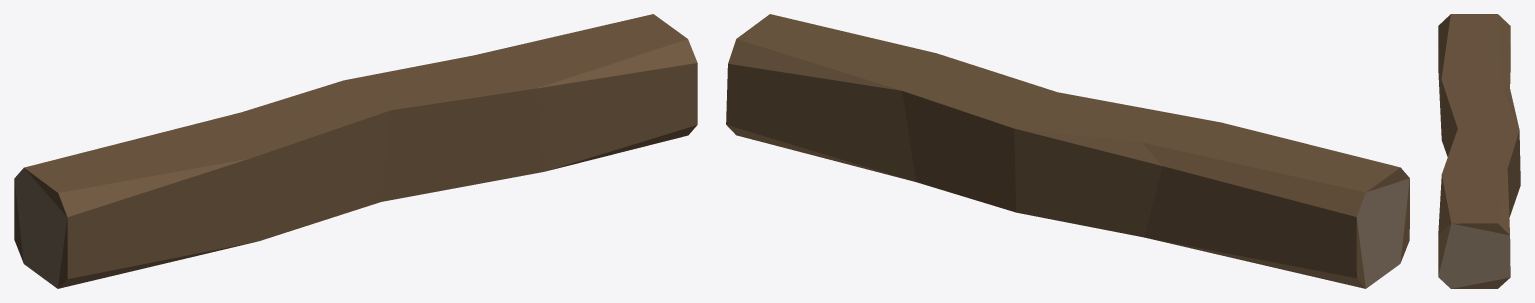
The model's file is single_log.glb.
The picture shows the model from 3 angles, left to right: view 1: azimuth 30°, elevation 25°; view 2: azimuth 150°, elevation 25°; view 3: azimuth 270°, elevation 25°; orthographic projection. The views are drawn at different scales.
Parts seen in each view (by area): view 1: Cube; view 2: Cube; view 3: Cube.
Part boxes in pixels (<box>): Cube: <box>14,14,697,288</box>; Cube: <box>726,14,1409,288</box>; Cube: <box>1438,14,1520,288</box>.
Size of the model in its own units: 1391 by 203 by 232.
